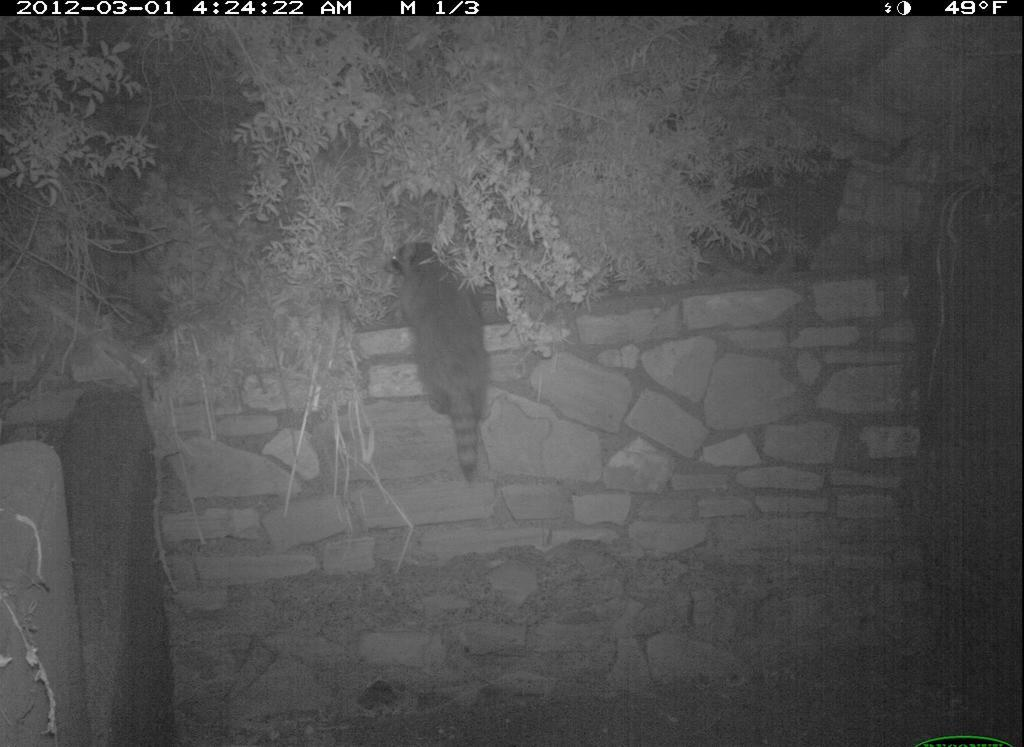raccoon: (376, 222, 507, 487)
